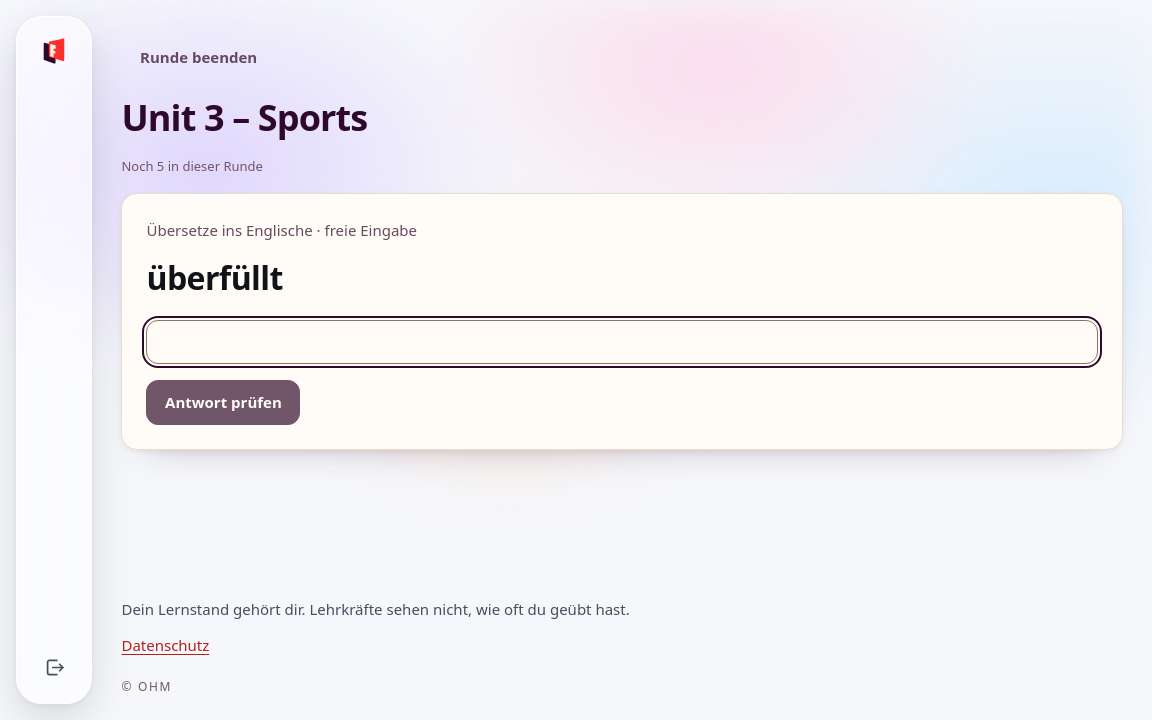
die Rückfrage kommt genau dann, wenn etwas verloren ginge › leere Aufgabe → keine Rückfrage, die Runde ist einfach verlassen
Expected: the heading "Unit 3 – Sports" is shown, 121,93 -> 367,142
Click the button "Runde beenden": (199, 57) 121,34 -> 276,79
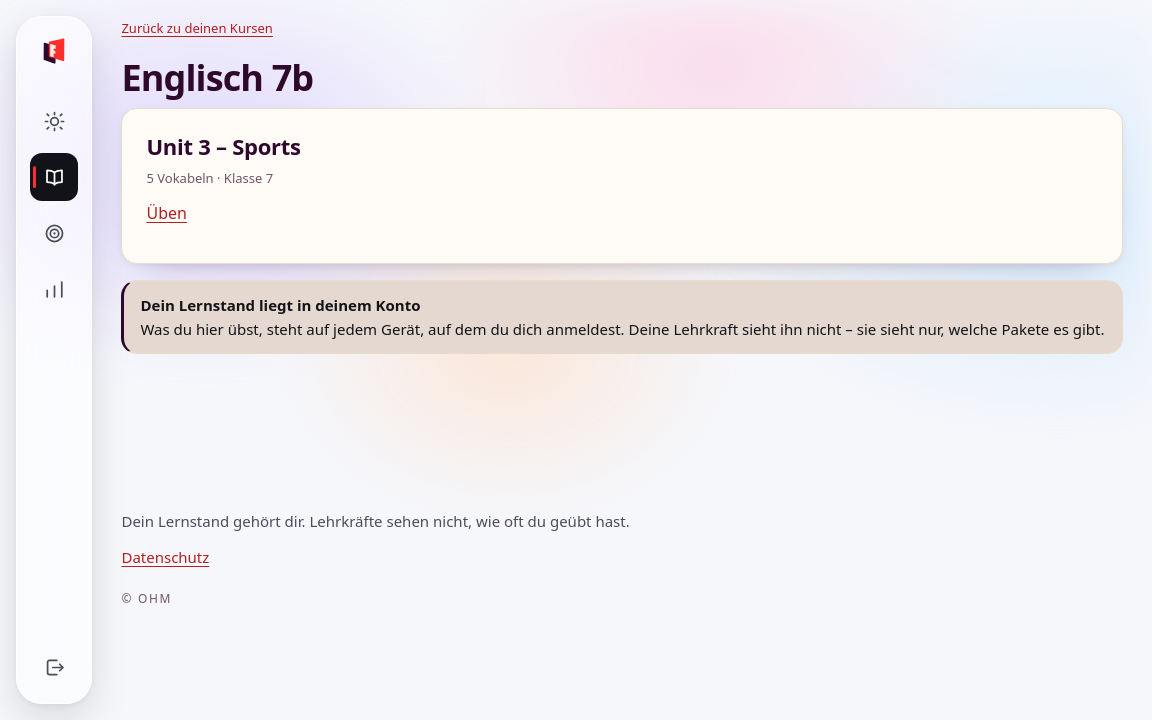
Expected: the heading "Englisch 7b" is shown, 121,53 -> 313,102
